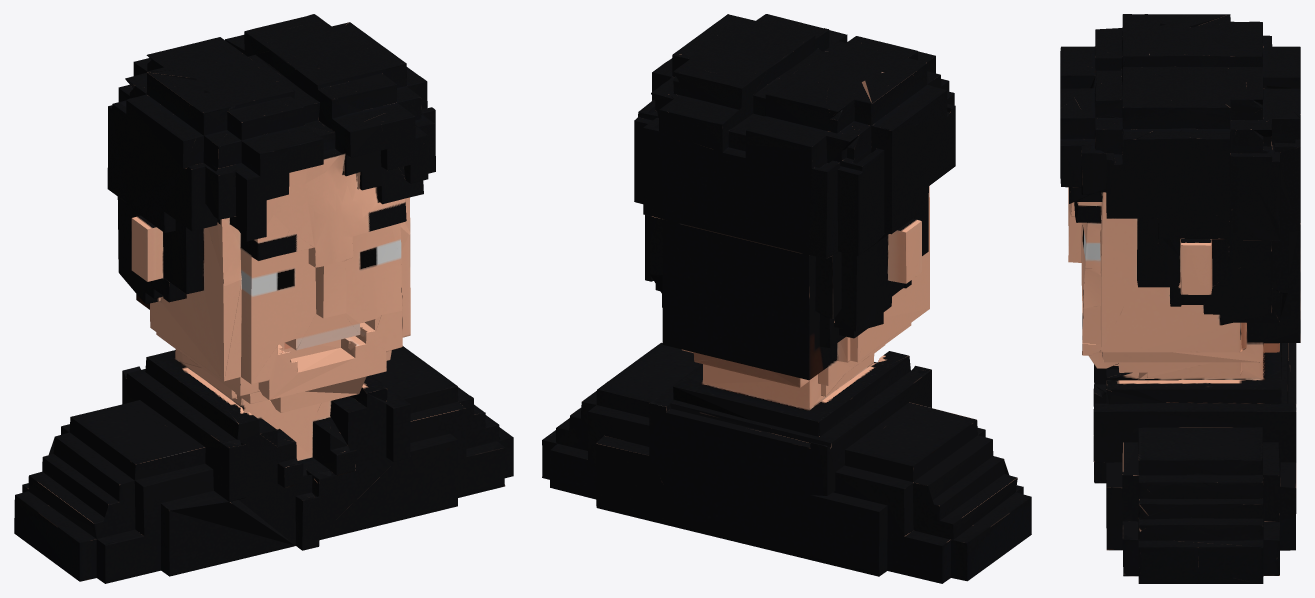
Rendered from portrait.glb.
The picture shows the model from 3 angles, left to right: view 1: azimuth 30°, elevation 25°; view 2: azimuth 150°, elevation 25°; view 3: azimuth 270°, elevation 25°; orthographic projection. The views are drawn at different scales.
Visible parts, largest first — view 1: output_unwrapped; view 2: output_unwrapped; view 3: output_unwrapped.
Part boxes in pixels (x1,y1,x2,y2): output_unwrapped: (14,14,513,583); output_unwrapped: (542,14,1031,583); output_unwrapped: (1060,14,1300,583).
Bounding box in the file's own units: 1.9 × 1.87 × 0.964.
Materials: 1 (1 with a texture image).
